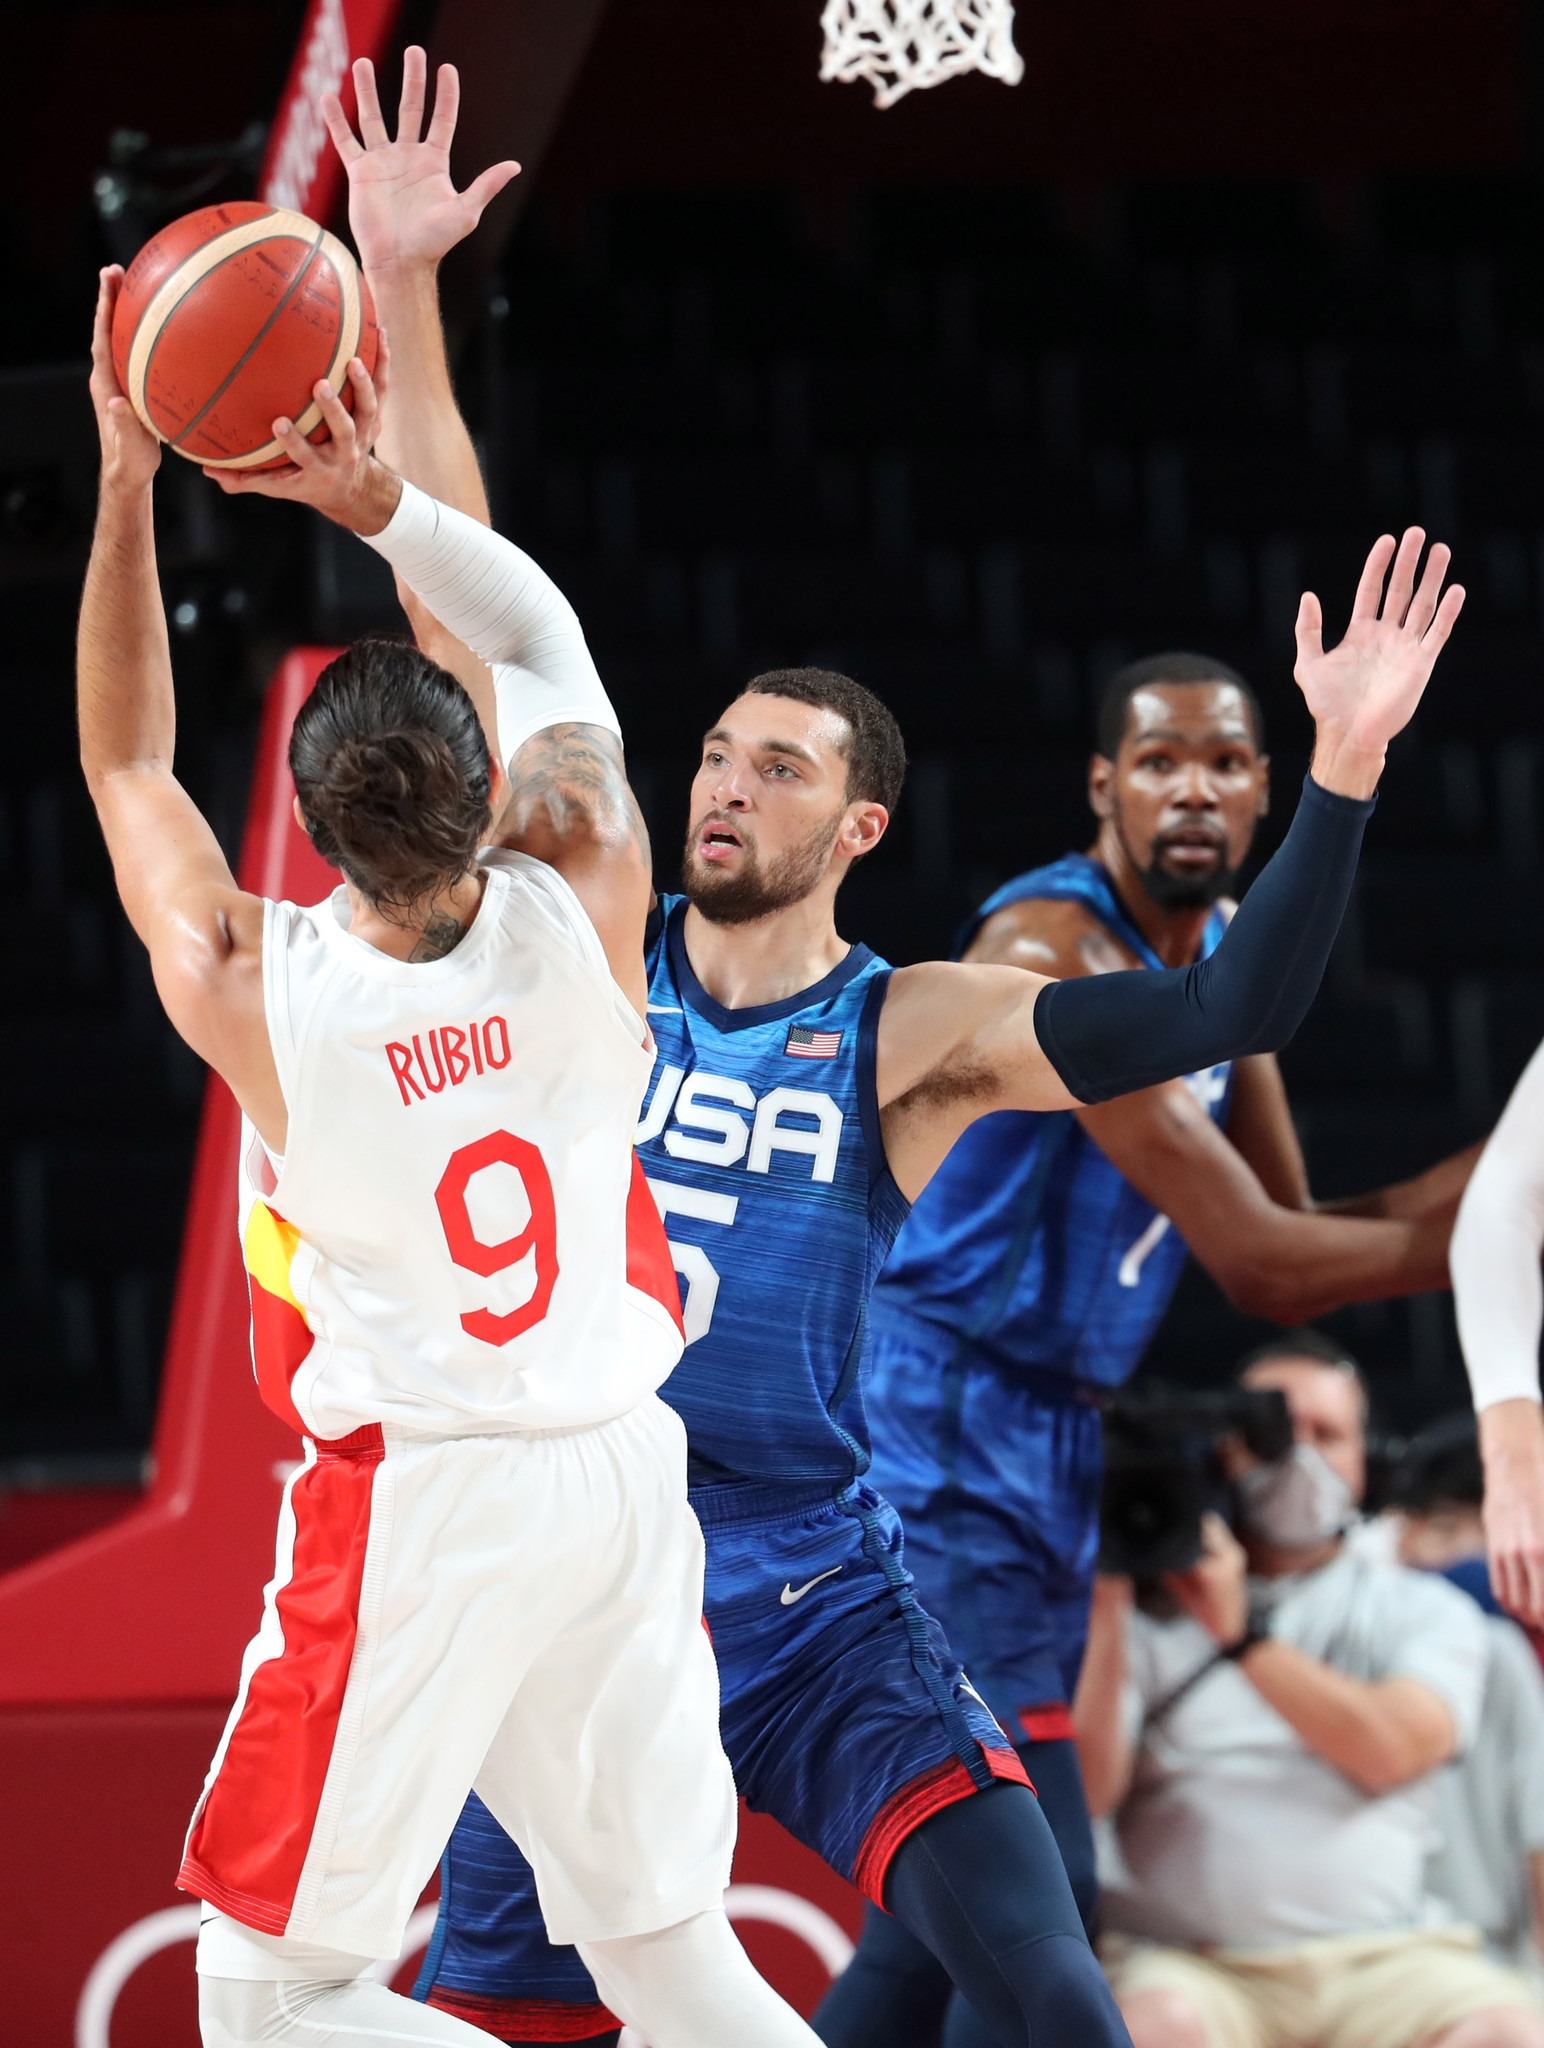basketball: (117, 191, 384, 469)
spain_player: (108, 516, 796, 2048)
usa_player: (641, 646, 1096, 2048), (872, 665, 1325, 1771)
